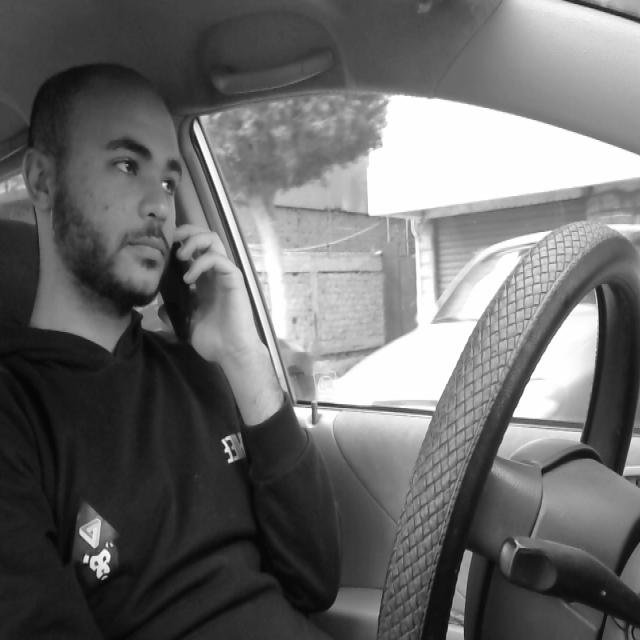mobile use: (142, 210, 208, 350)
